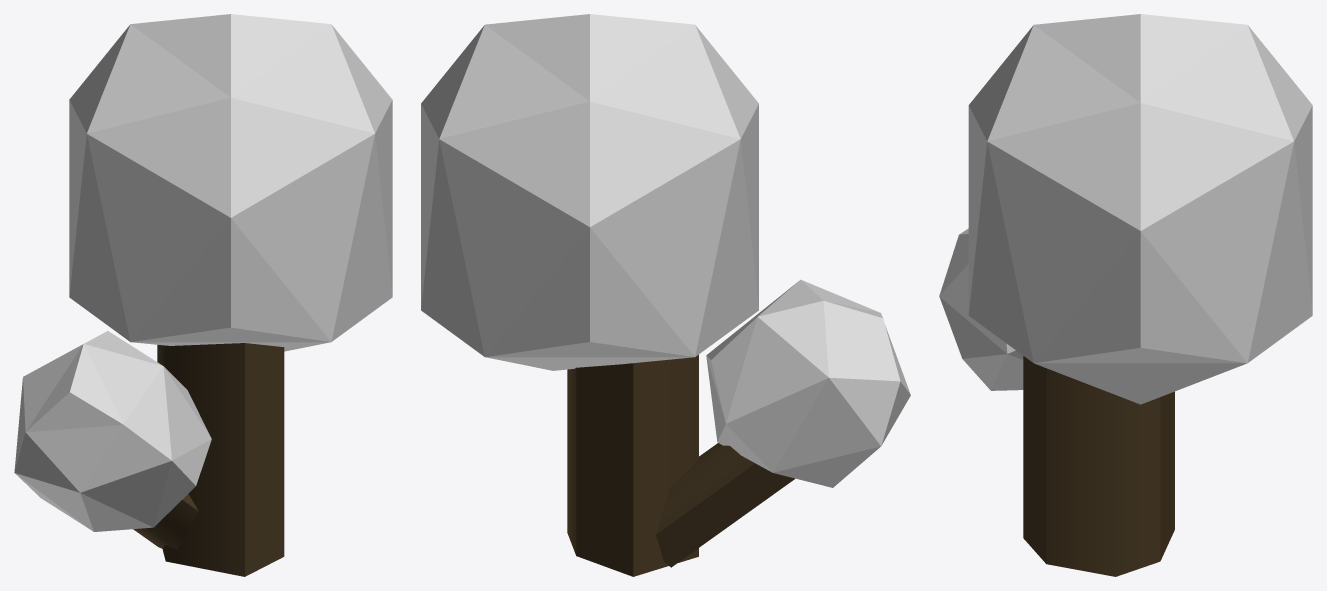
File: MDrzewko_biale.FBX
The picture shows the model from 3 angles, left to right: view 1: azimuth 30°, elevation 25°; view 2: azimuth 150°, elevation 25°; view 3: azimuth 270°, elevation 25°; orthographic projection. The views are drawn at different scales.
Parts seen in each view (by area): view 1: GeoSphere004, GeoSphere005, Box003, Box004; view 2: GeoSphere004, GeoSphere005, Box003, Box004; view 3: GeoSphere004, Box003, GeoSphere005.
Part boxes in pixels (x1,y1,x2,y2): GeoSphere004: (69, 14, 392, 351); GeoSphere005: (14, 331, 211, 531); Box003: (157, 343, 284, 576); Box004: (133, 494, 198, 549); GeoSphere004: (421, 14, 758, 370); GeoSphere005: (706, 279, 910, 487); Box003: (567, 354, 698, 576); Box004: (656, 443, 794, 567); GeoSphere004: (968, 14, 1312, 404); Box003: (1023, 356, 1174, 576); GeoSphere005: (939, 228, 1023, 390).
Size of the model in its own units: 8.89 by 10.6 by 6.54.
